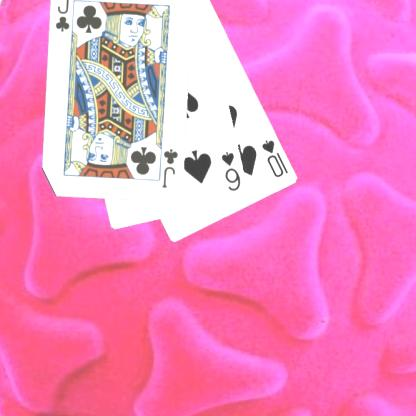10S: (259, 137, 290, 179)
6S: (219, 149, 242, 193)
JC: (159, 146, 180, 190), (52, 0, 72, 34)
